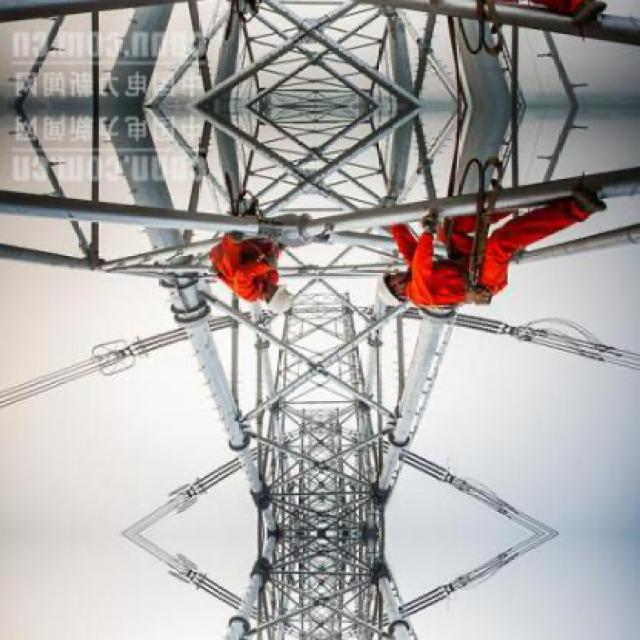con casco: (369, 259, 434, 341), (263, 281, 320, 325)
